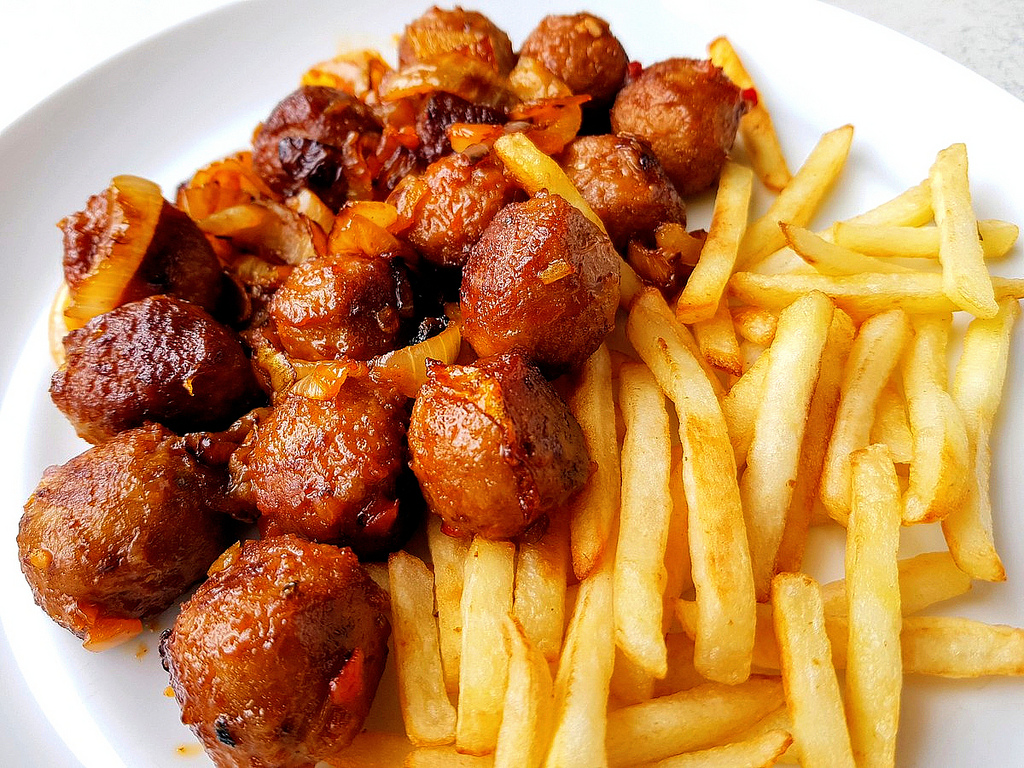meatballs: (61, 184, 388, 751), (277, 18, 719, 209), (408, 357, 601, 508), (454, 193, 620, 346)
